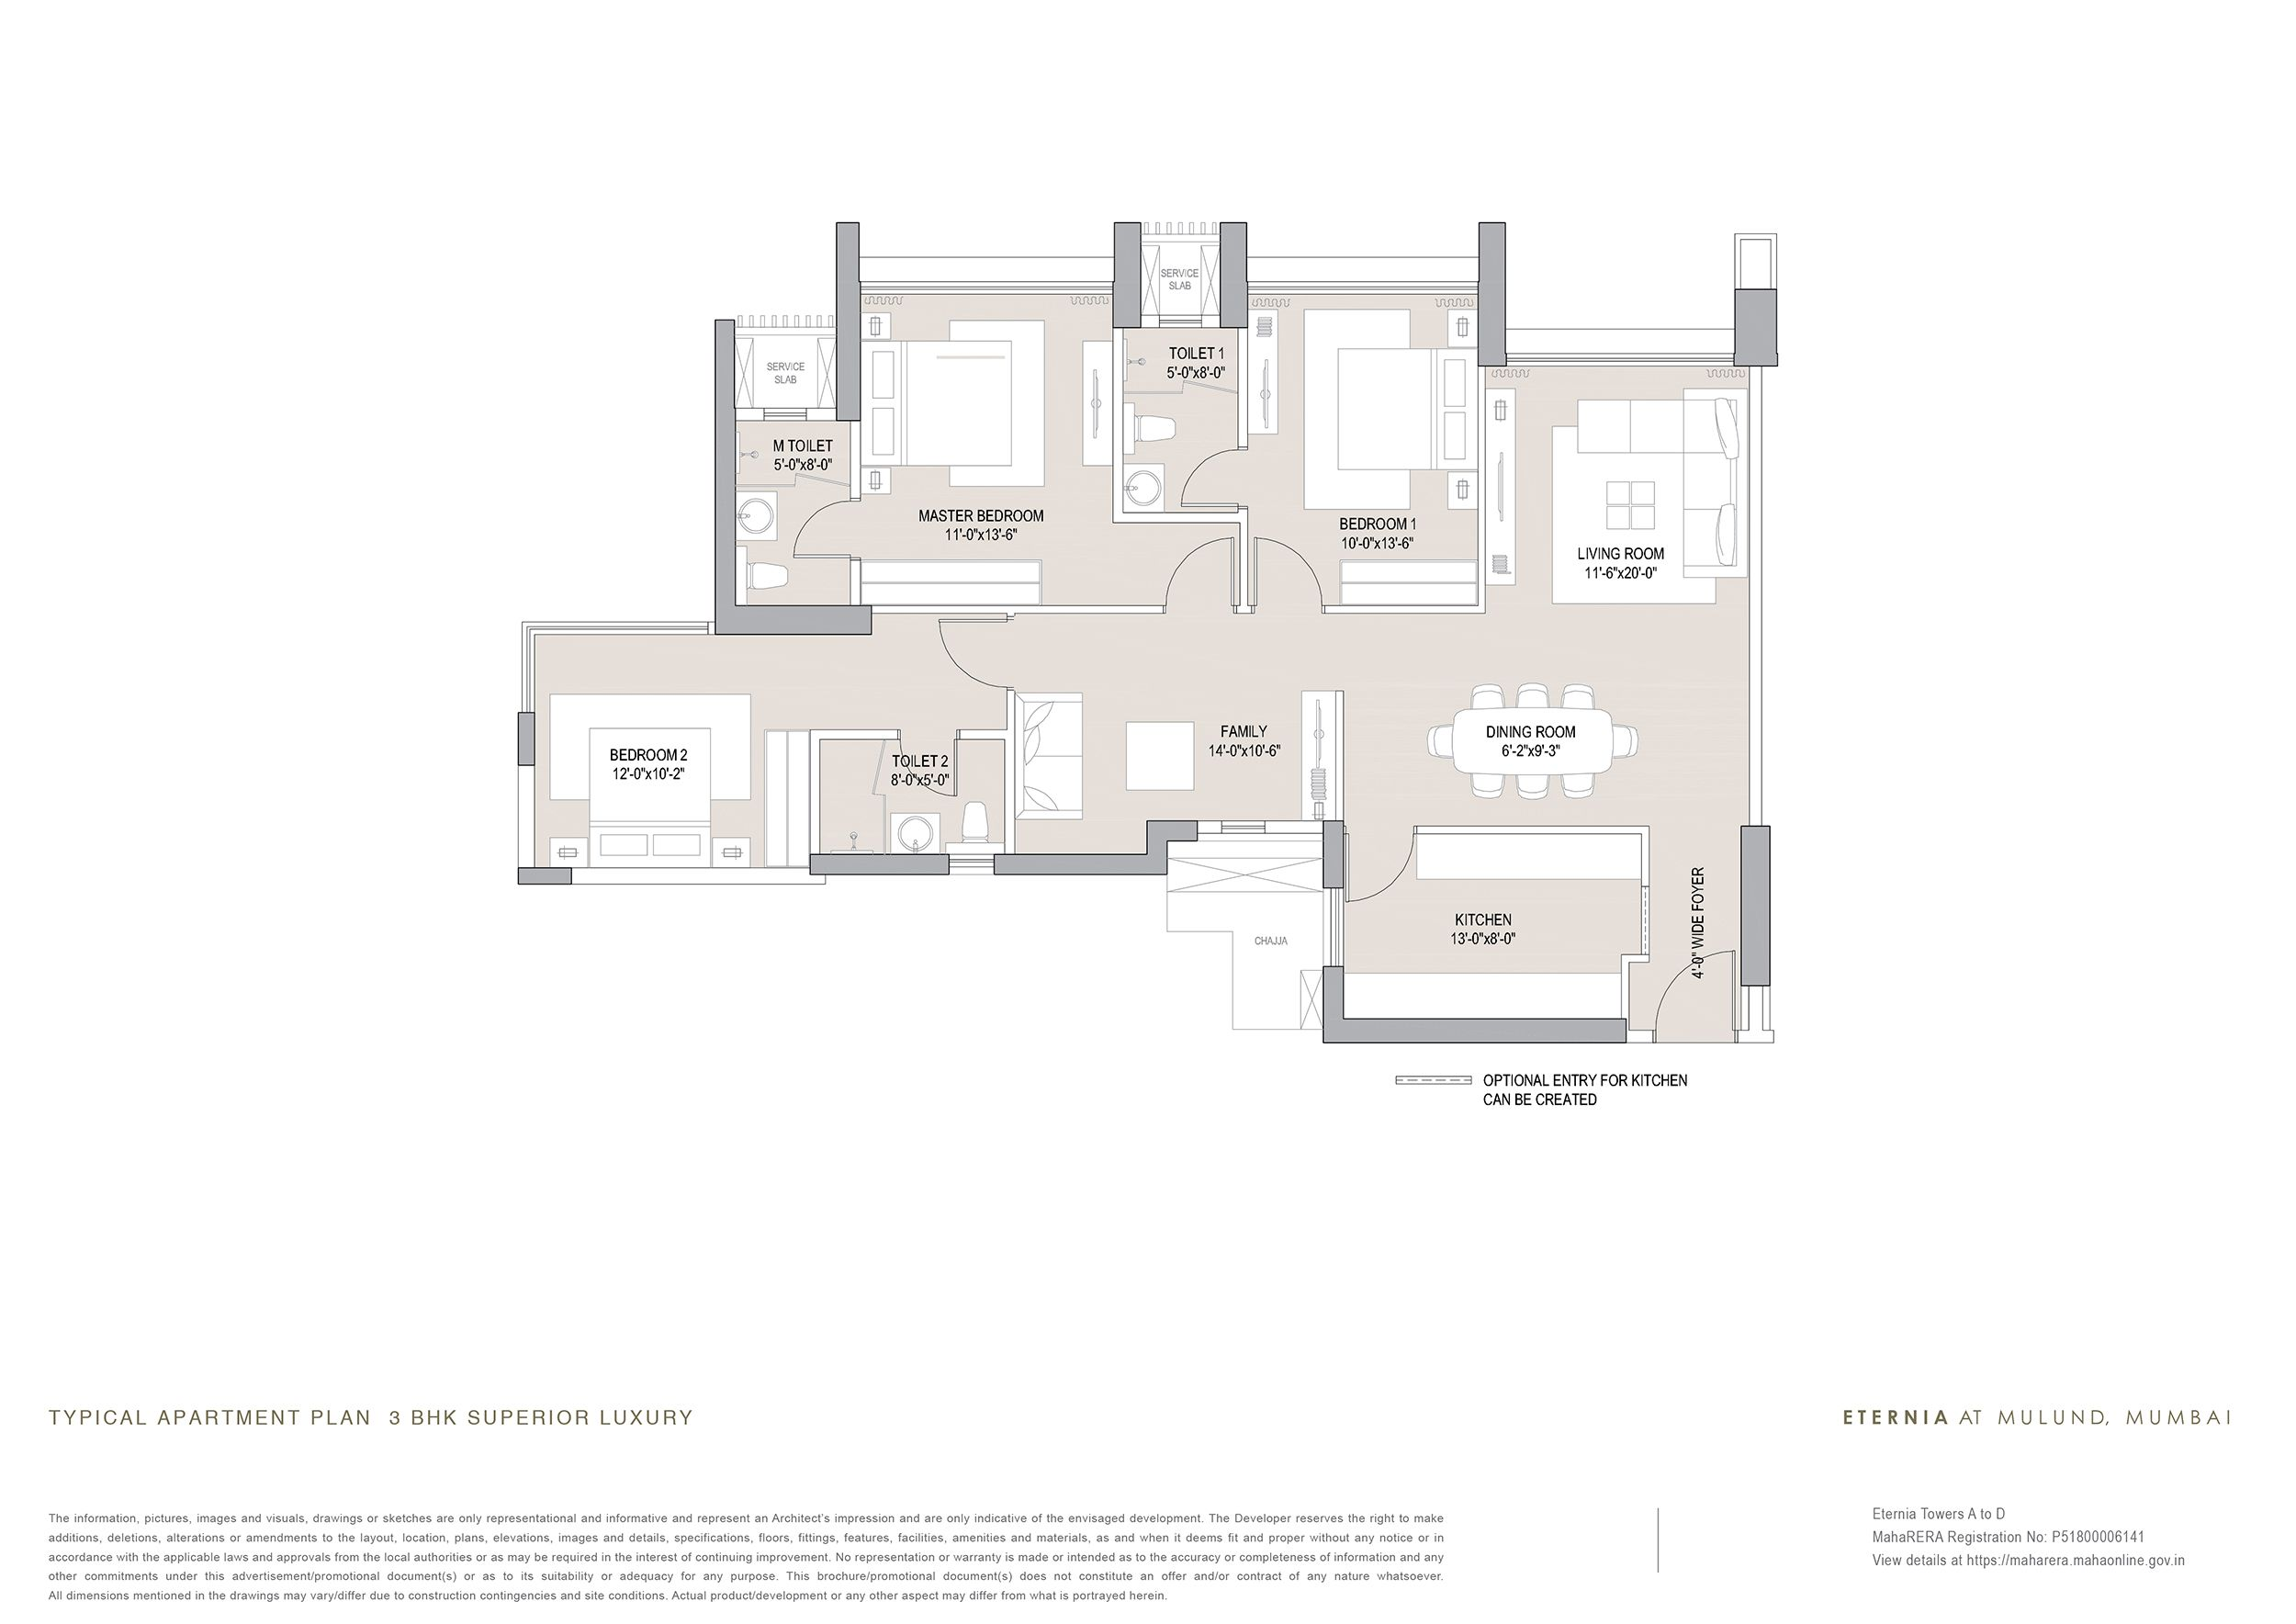door: (1655, 946, 1739, 1028), (935, 615, 1005, 696), (1161, 529, 1237, 603), (1251, 526, 1325, 599), (1346, 837, 1414, 909), (789, 497, 847, 562), (1177, 448, 1233, 510)
